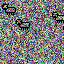sheep: (2, 4, 16, 15), (16, 19, 30, 30), (52, 11, 64, 23)
